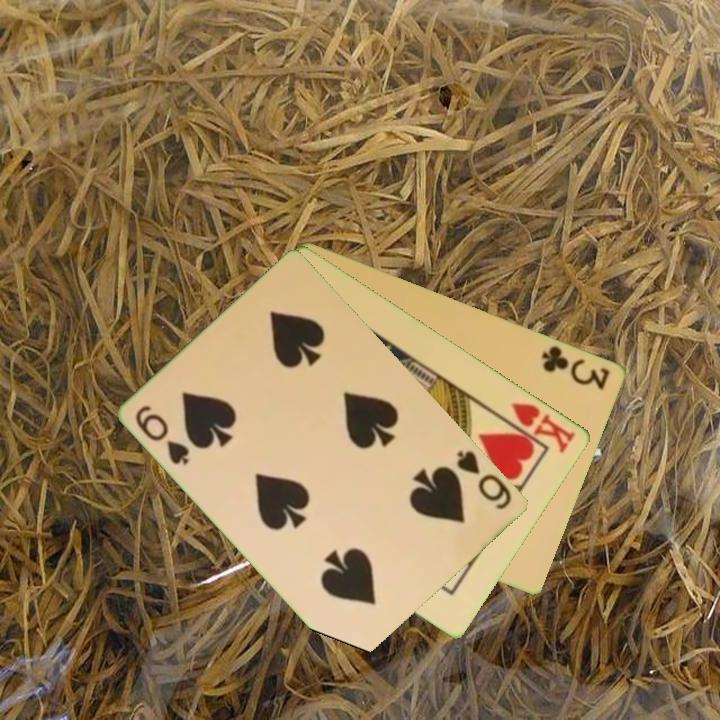3c: (538, 341, 614, 393)
6s: (453, 447, 516, 513), (132, 402, 193, 468)
Kh: (496, 398, 579, 456)
